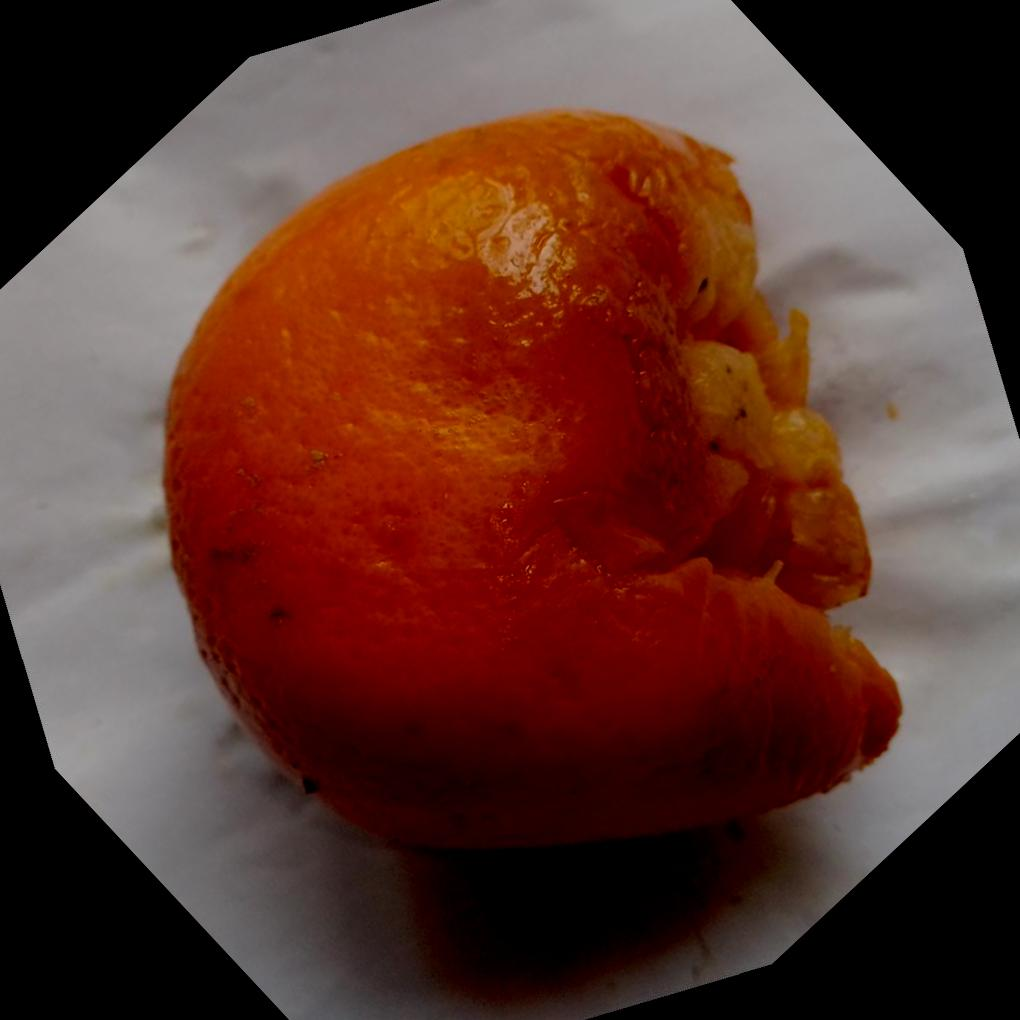FreshOrange: (154, 105, 904, 859)
